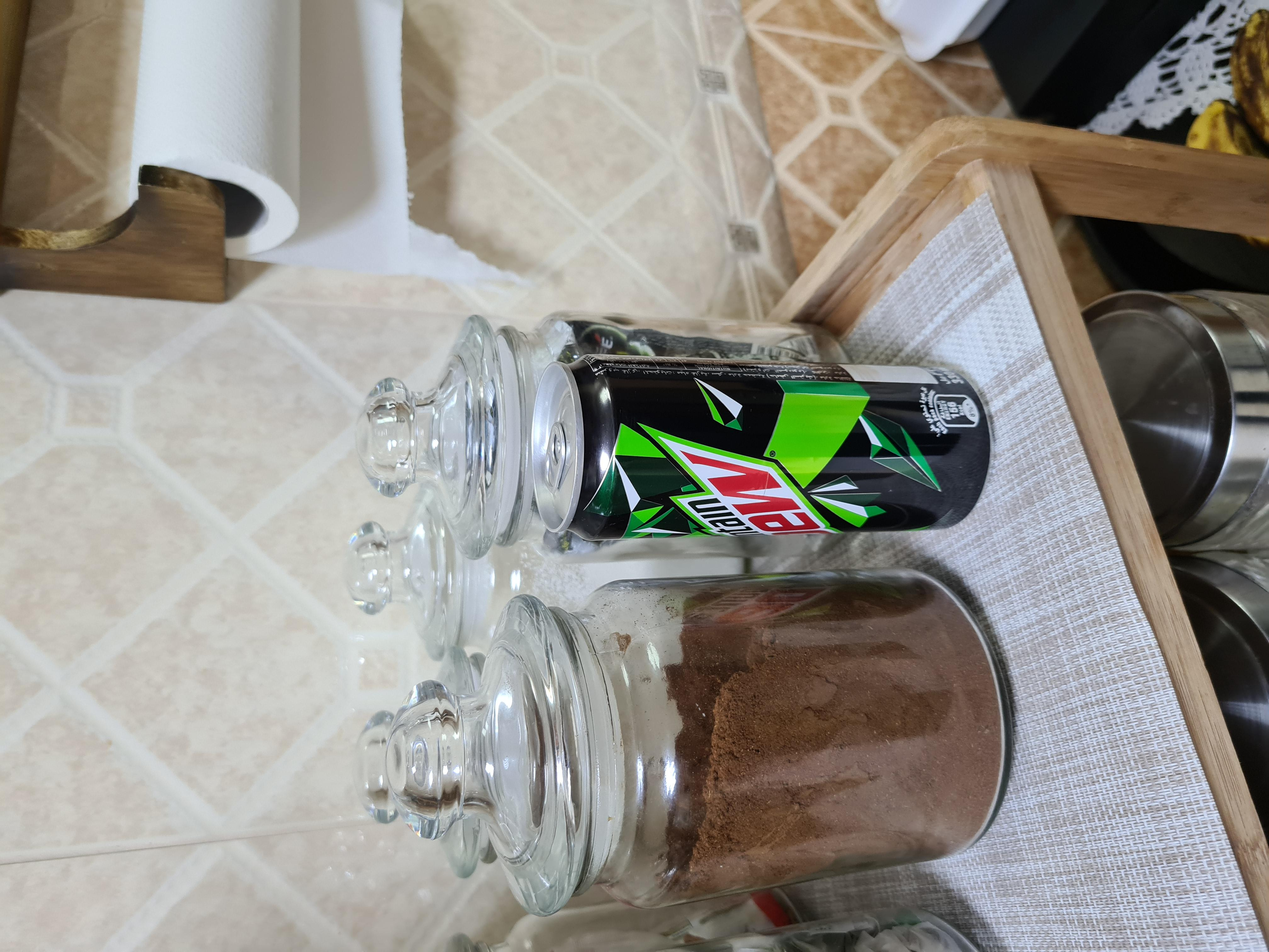debris: (515, 344, 996, 552)
